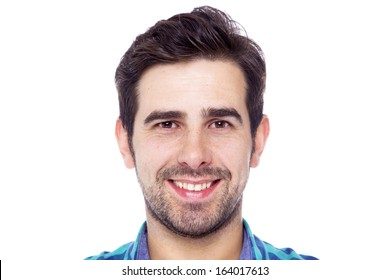man: (115, 8, 270, 236)
